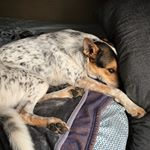puppy: (1, 29, 148, 123)
